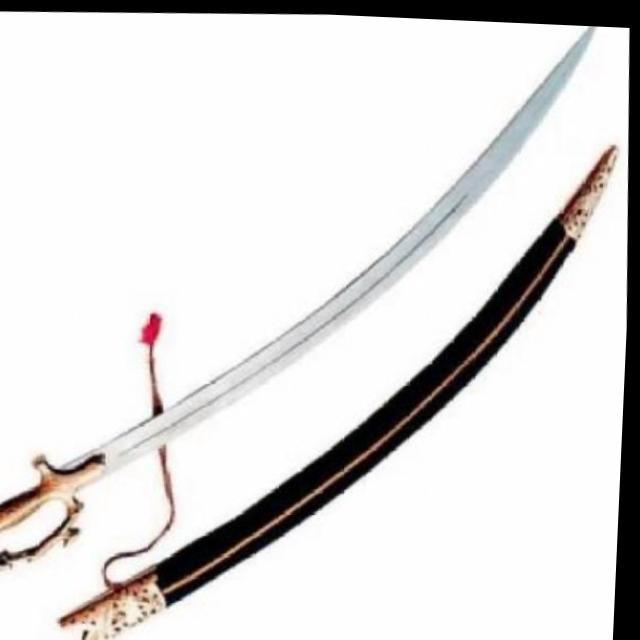weapon: (0, 0, 622, 596)
